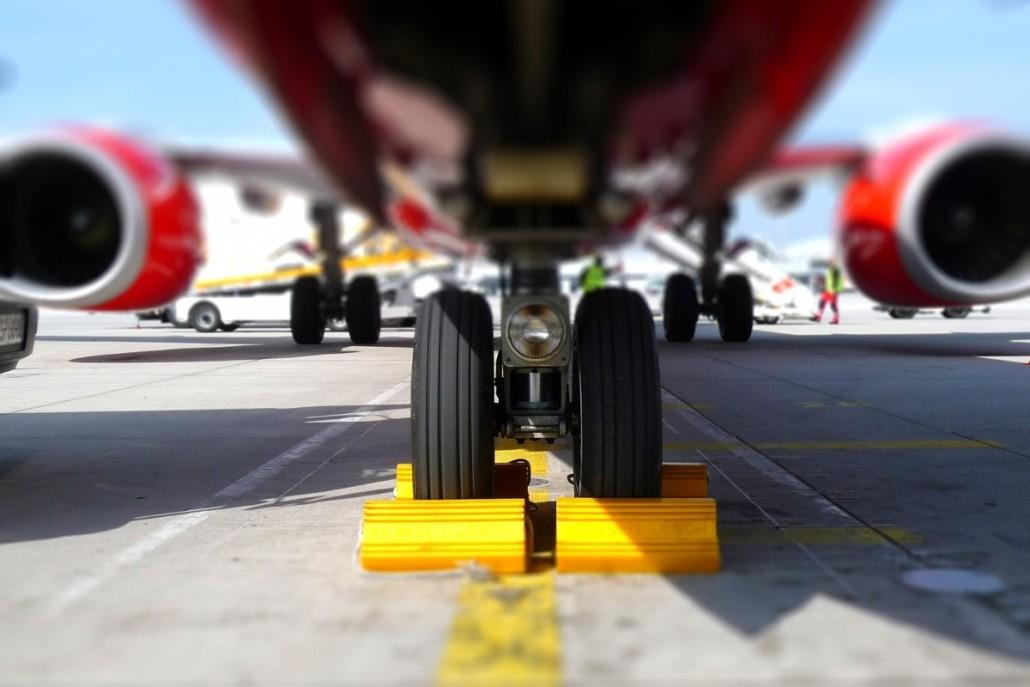boots: (555, 493, 726, 574), (355, 498, 534, 575), (395, 458, 532, 502), (581, 458, 713, 499)
wheels: (568, 287, 663, 499), (408, 287, 495, 501), (715, 273, 752, 341), (661, 273, 697, 342), (289, 274, 324, 343), (344, 275, 379, 343), (188, 303, 220, 331)
